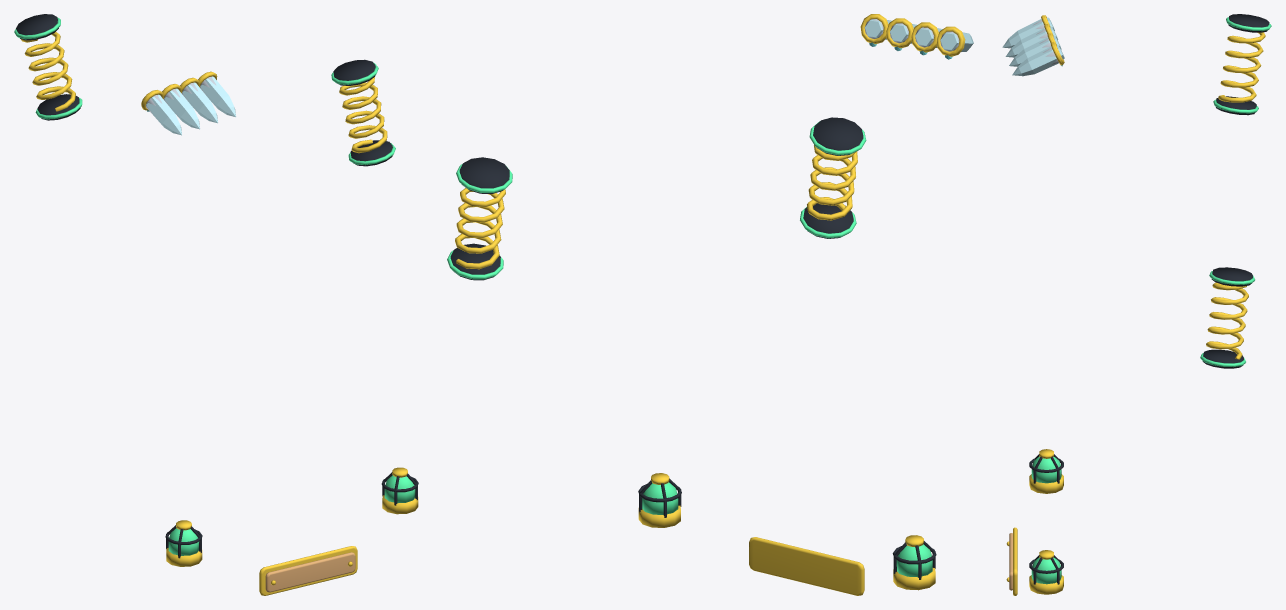
Rendered from IcePickPost_T5_Upgrades.fbx.
3 renders of one model, left to right at view 1: azimuth 30°, elevation 25°; view 2: azimuth 150°, elevation 25°; view 3: azimuth 270°, elevation 25°, orthographic. The views are drawn at different scales.
Parts seen in each view (by area): view 1: IcePickPostT5U5SpikesA, IcePickPostT5U3Spring2, IcePickPostT5U3Spring1, IcePickPostT5U5NamePlate, IcePickPostT5U2Lamp2, IcePickPostT5U2Lamp1, IcePickPostT5U2Lamp2Glow, IcePickPostT5U2Lamp1Glow; view 2: IcePickPostT5U3Spring1, IcePickPostT5U3Spring2, IcePickPostT5U5NamePlate, IcePickPostT5U1SpikesA, IcePickPostT5U5SpikesA, IcePickPostT5U2Lamp1, IcePickPostT5U2Lamp2, IcePickPostT5U2Lamp1Glow, IcePickPostT5U2Lamp2Glow, IcePickPostT5U3Spring1Glow, IcePickPostT5U3Spring2Glow; view 3: IcePickPostT5U3Spring2, IcePickPostT5U3Spring1, IcePickPostT5U5SpikesA, IcePickPostT5U2Lamp2, IcePickPostT5U2Lamp1, IcePickPostT5U5NamePlate, IcePickPostT5U2Lamp2Glow, IcePickPostT5U2Lamp1Glow, IcePickPostT5U3Spring2Glow, IcePickPostT5U3Spring1Glow, IcePickPostT5U1SpikesA.
Boxes of the visible parts, x1=… form: IcePickPostT5U5SpikesA: x1=141, y1=72, x2=235, y2=135; IcePickPostT5U3Spring2: x1=333, y1=59, x2=392, y2=166; IcePickPostT5U3Spring1: x1=16, y1=14, x2=80, y2=120; IcePickPostT5U5NamePlate: x1=259, y1=546, x2=357, y2=595; IcePickPostT5U2Lamp2: x1=381, y1=467, x2=418, y2=514; IcePickPostT5U2Lamp1: x1=165, y1=520, x2=202, y2=566; IcePickPostT5U2Lamp2Glow: x1=384, y1=475, x2=415, y2=503; IcePickPostT5U2Lamp1Glow: x1=168, y1=528, x2=199, y2=555; IcePickPostT5U3Spring1: x1=803, y1=117, x2=863, y2=238; IcePickPostT5U3Spring2: x1=450, y1=157, x2=509, y2=280; IcePickPostT5U5NamePlate: x1=749, y1=537, x2=864, y2=595; IcePickPostT5U1SpikesA: x1=861, y1=14, x2=964, y2=56; IcePickPostT5U5SpikesA: x1=860, y1=14, x2=973, y2=56; IcePickPostT5U2Lamp1: x1=892, y1=535, x2=936, y2=590; IcePickPostT5U2Lamp2: x1=638, y1=473, x2=681, y2=527; IcePickPostT5U2Lamp1Glow: x1=896, y1=544, x2=932, y2=577; IcePickPostT5U2Lamp2Glow: x1=642, y1=482, x2=678, y2=514; IcePickPostT5U3Spring1Glow: x1=800, y1=121, x2=866, y2=238; IcePickPostT5U3Spring2Glow: x1=447, y1=164, x2=512, y2=279; IcePickPostT5U3Spring2: x1=1202, y1=267, x2=1252, y2=368; IcePickPostT5U3Spring1: x1=1216, y1=14, x2=1269, y2=115; IcePickPostT5U5SpikesA: x1=1002, y1=15, x2=1064, y2=76; IcePickPostT5U2Lamp2: x1=1029, y1=550, x2=1063, y2=594; IcePickPostT5U2Lamp1: x1=1029, y1=449, x2=1063, y2=493; IcePickPostT5U5NamePlate: x1=1006, y1=527, x2=1017, y2=595; IcePickPostT5U2Lamp2Glow: x1=1031, y1=557, x2=1061, y2=584; IcePickPostT5U2Lamp1Glow: x1=1031, y1=456, x2=1061, y2=483; IcePickPostT5U3Spring2Glow: x1=1200, y1=271, x2=1255, y2=367; IcePickPostT5U3Spring1Glow: x1=1213, y1=17, x2=1271, y2=113; IcePickPostT5U1SpikesA: x1=1033, y1=15, x2=1064, y2=65.
Bounding box in the file's own units: 264 × 360 × 178.
